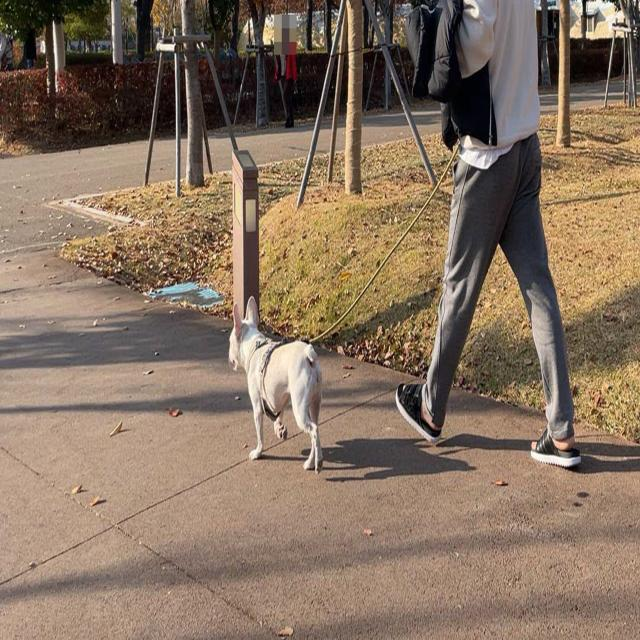Leashed_Dog: (228, 124, 464, 476)
